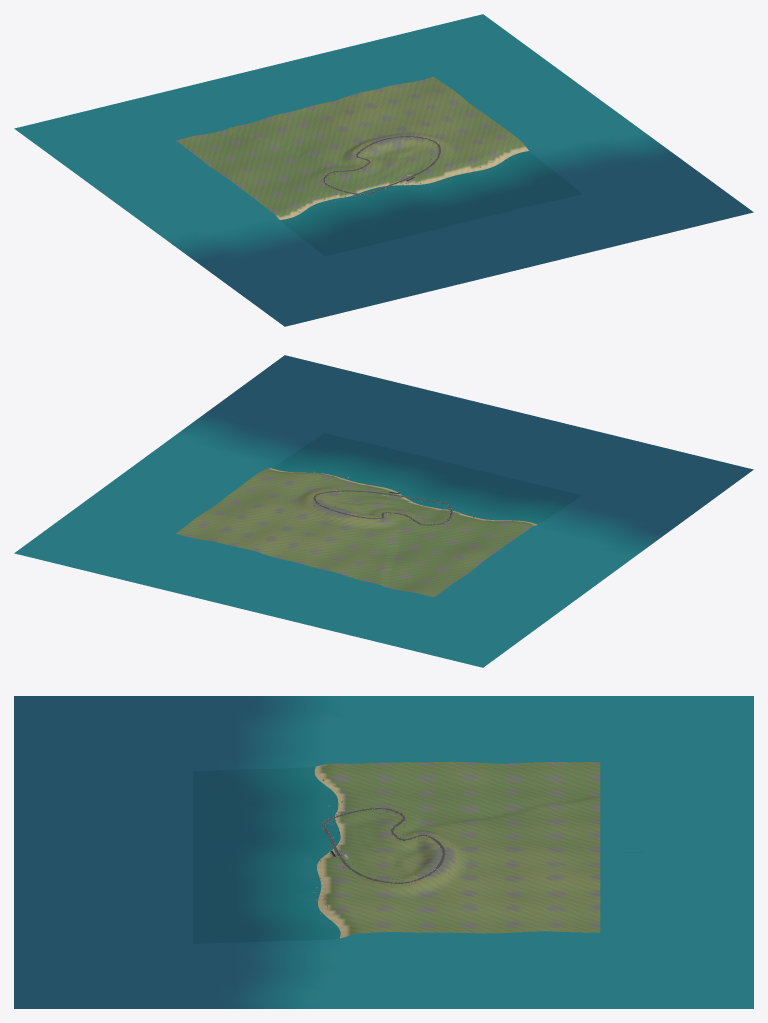
Rendered from azurline-circuit-lod1.glb.
3 views of the same model, one above another, from view 1: azimuth 30°, elevation 25°; view 2: azimuth 150°, elevation 25°; view 3: azimuth 270°, elevation 25° (orthographic). The views are drawn at different scales.
Parts seen in each view (by area): view 1: ocean__Atlantic_water, terrain__Coastal_terrain; view 2: ocean__Atlantic_water, terrain__Coastal_terrain; view 3: ocean__Atlantic_water, terrain__Coastal_terrain, road__Asphalt_—_aggregate_variation.
Boxes of the visible parts, x1,y1,x2,y2 form: ocean__Atlantic_water: [14, 14, 753, 326]; terrain__Coastal_terrain: [176, 76, 528, 219]; ocean__Atlantic_water: [14, 355, 753, 667]; terrain__Coastal_terrain: [176, 468, 537, 597]; ocean__Atlantic_water: [14, 696, 753, 1008]; terrain__Coastal_terrain: [314, 761, 600, 938]; road__Asphalt_—_aggregate_variation: [323, 808, 444, 883].
Size of the model in its own units: 4000 by 120 by 4000.
